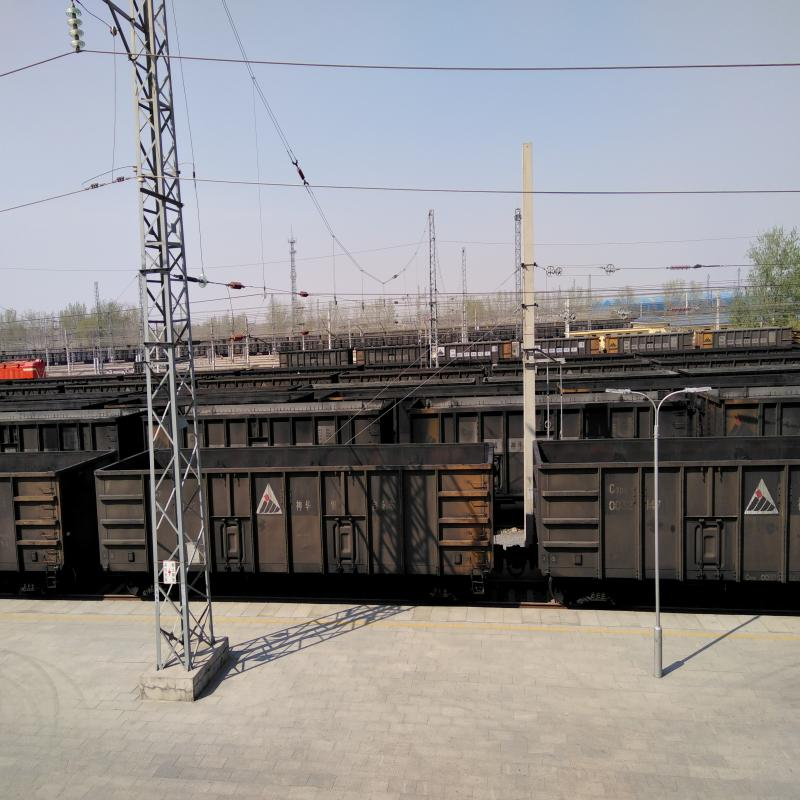train: (97, 458, 494, 578)
